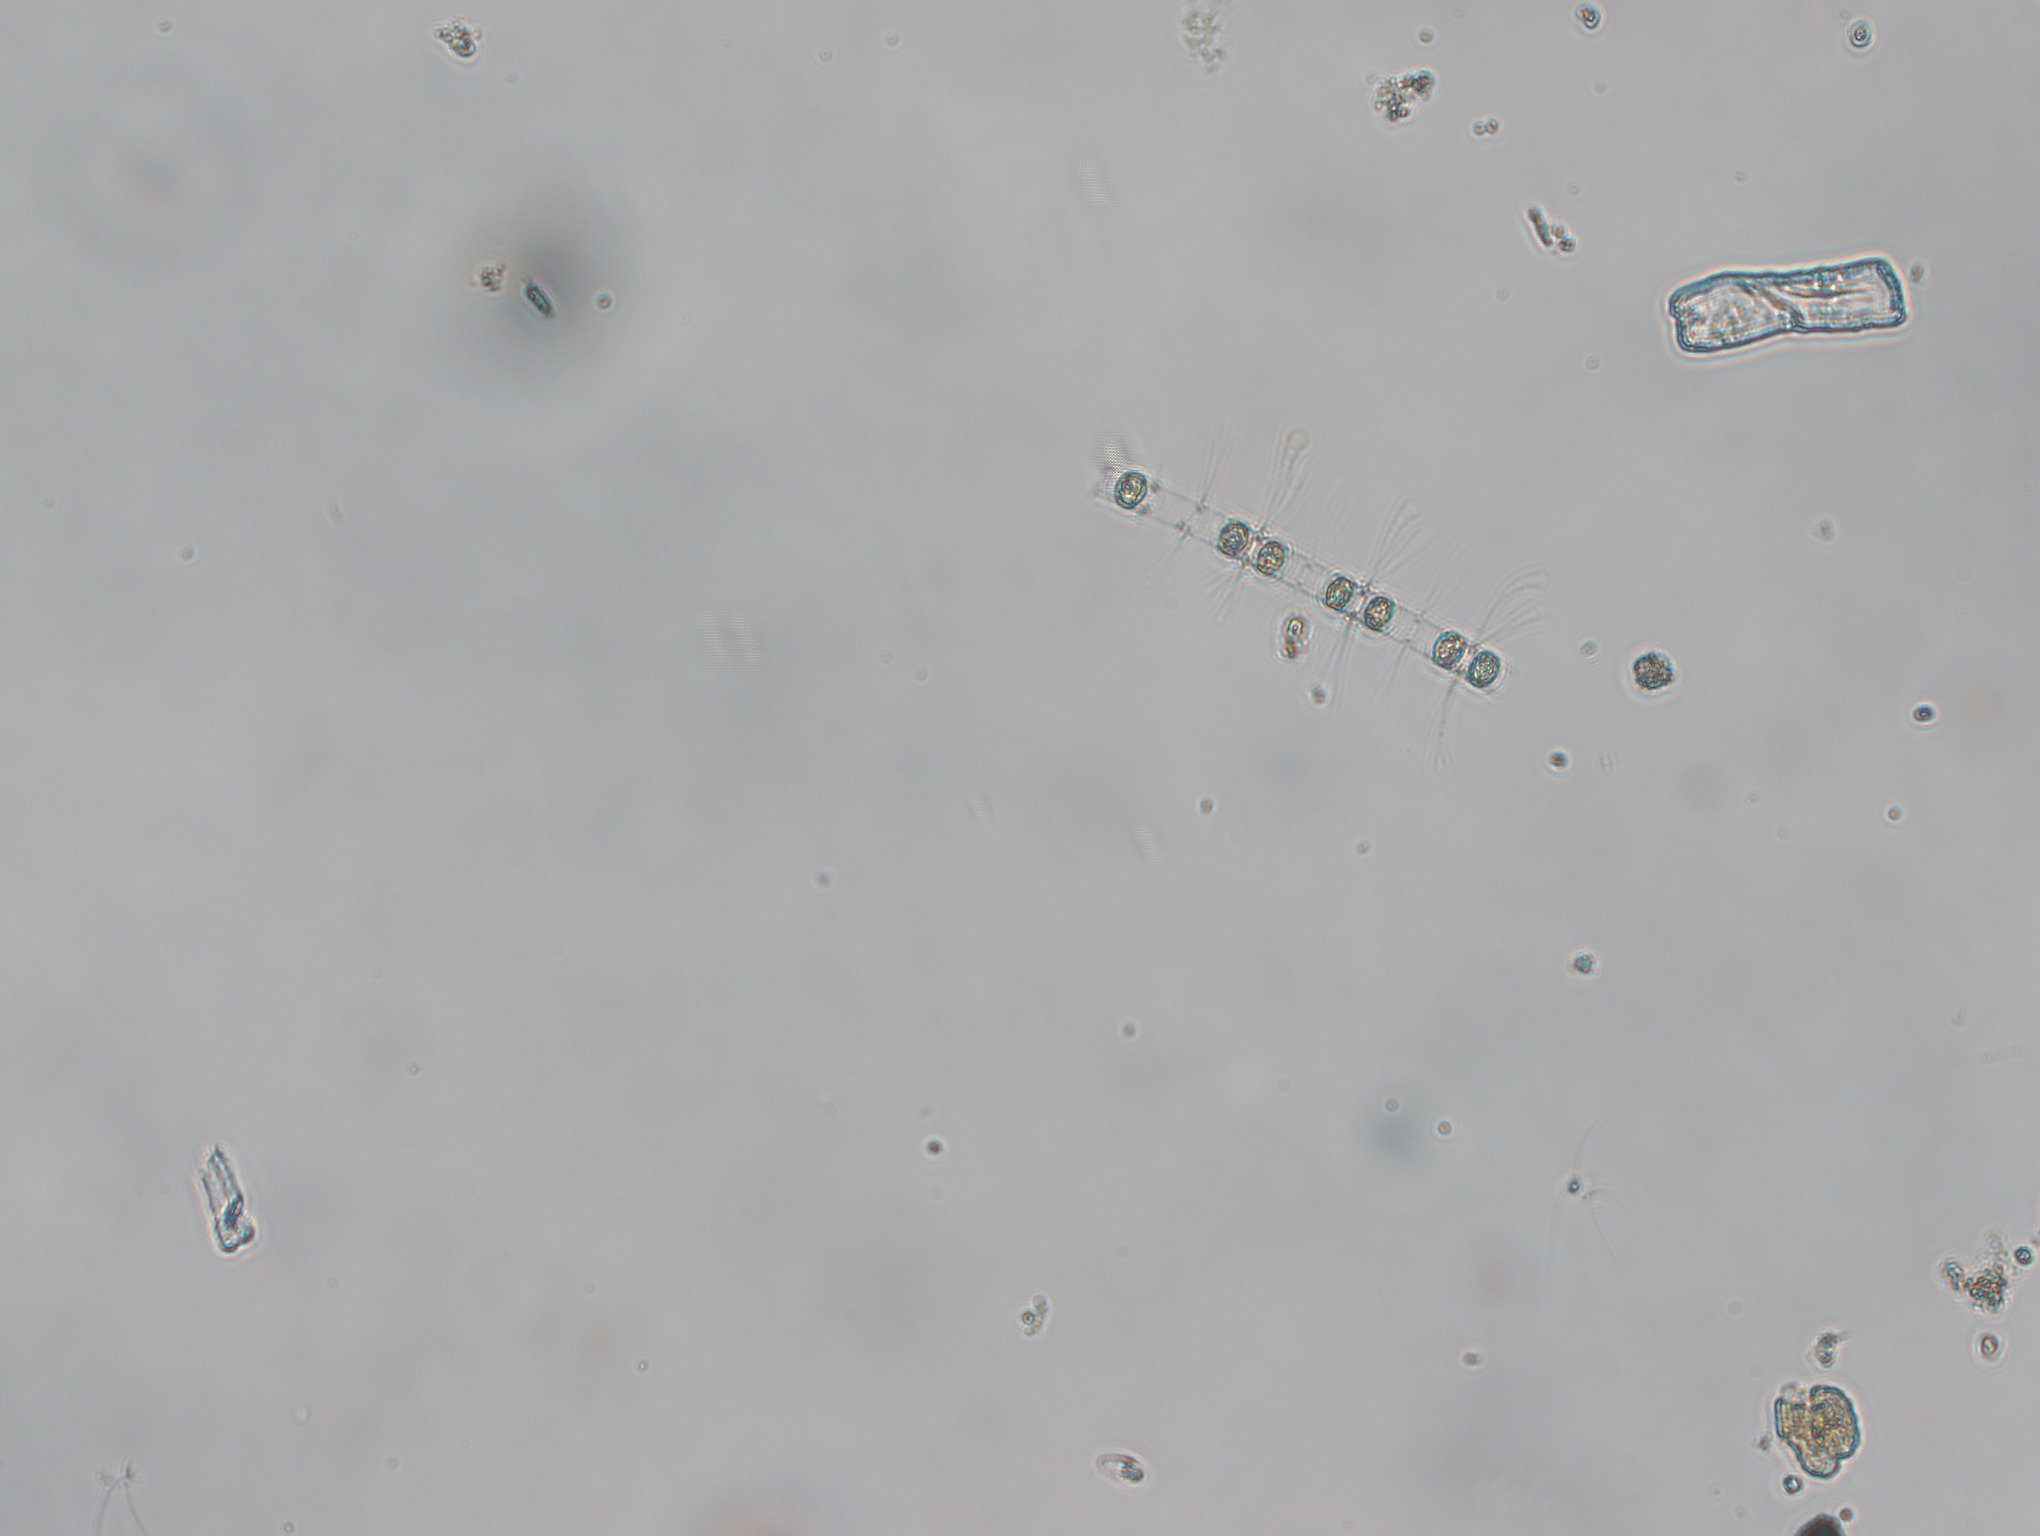chaetoceros: (1093, 421, 1555, 757)
